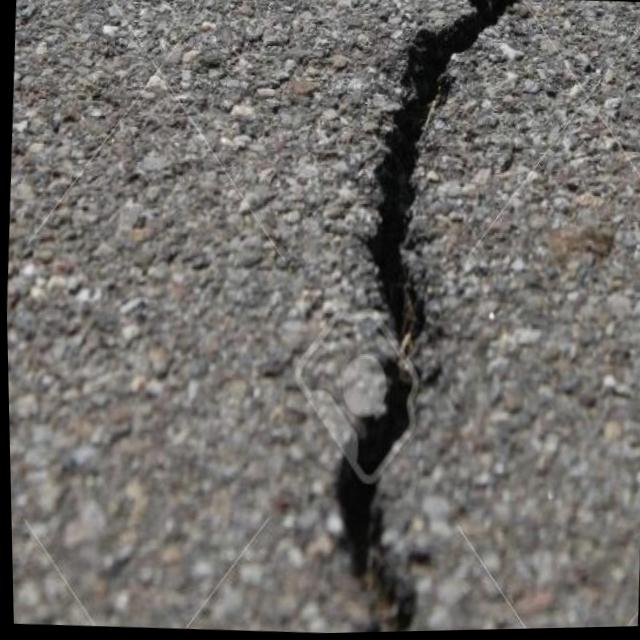Crack: (238, 0, 538, 636)
